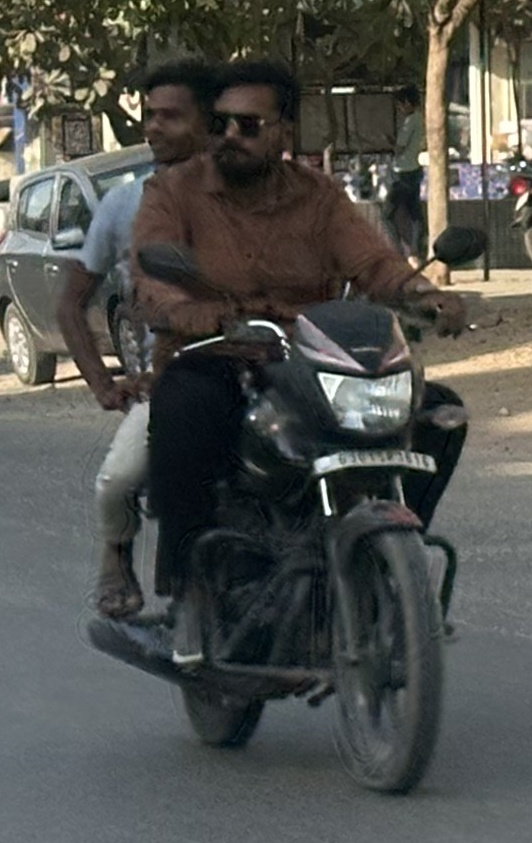BikeWithRider: (46, 43, 498, 805)
NoHelmet: (192, 51, 310, 184), (127, 53, 228, 174)
